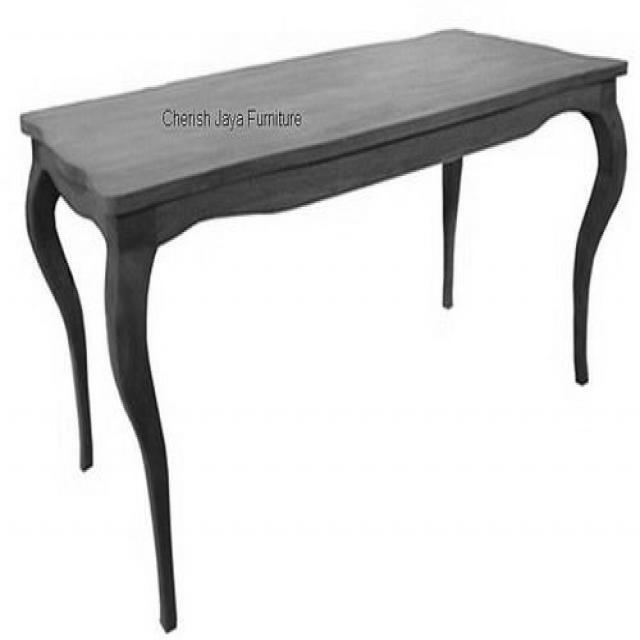table: (19, 29, 624, 624)
